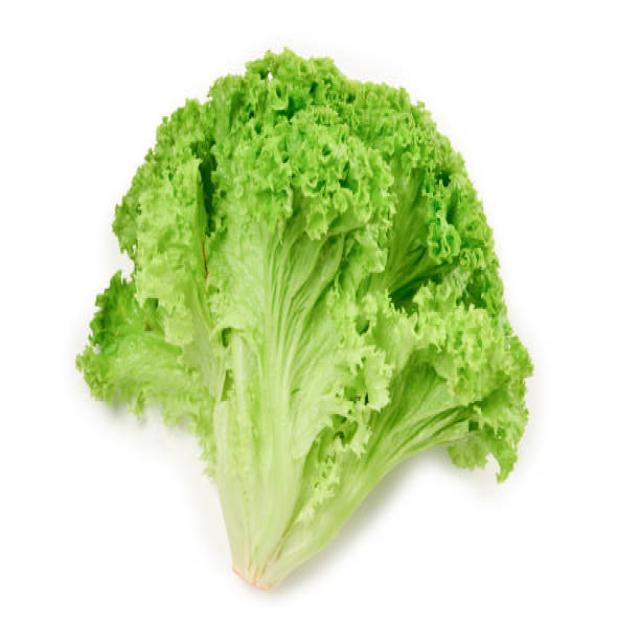Lettuce-Ready-to-Harvest: (72, 46, 537, 597)
